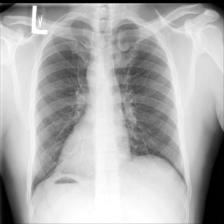normal: (28, 10, 192, 201)
